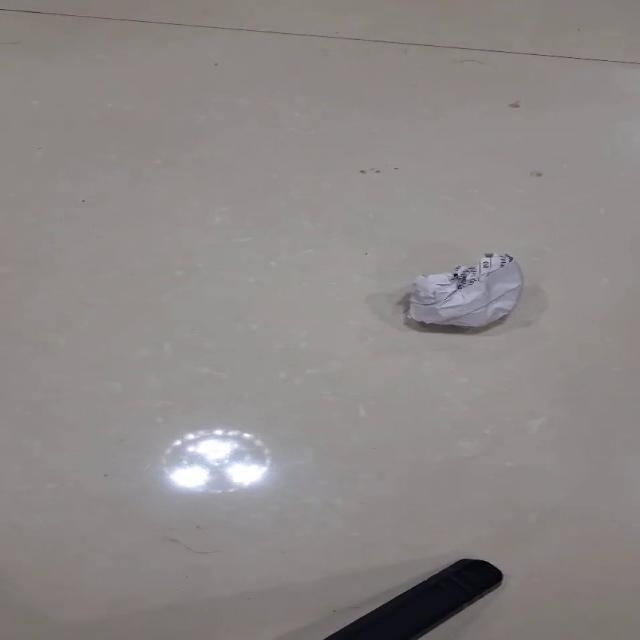paper: (404, 252, 524, 328)
